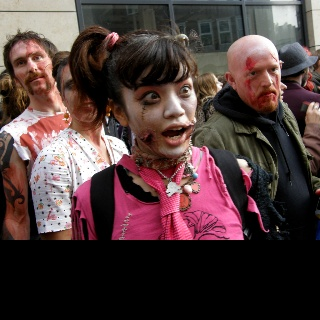without_mask: (123, 63, 199, 158), (236, 51, 281, 112)
